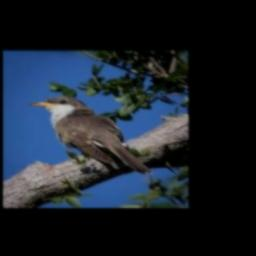Cuckoo: (28, 97, 152, 175)
